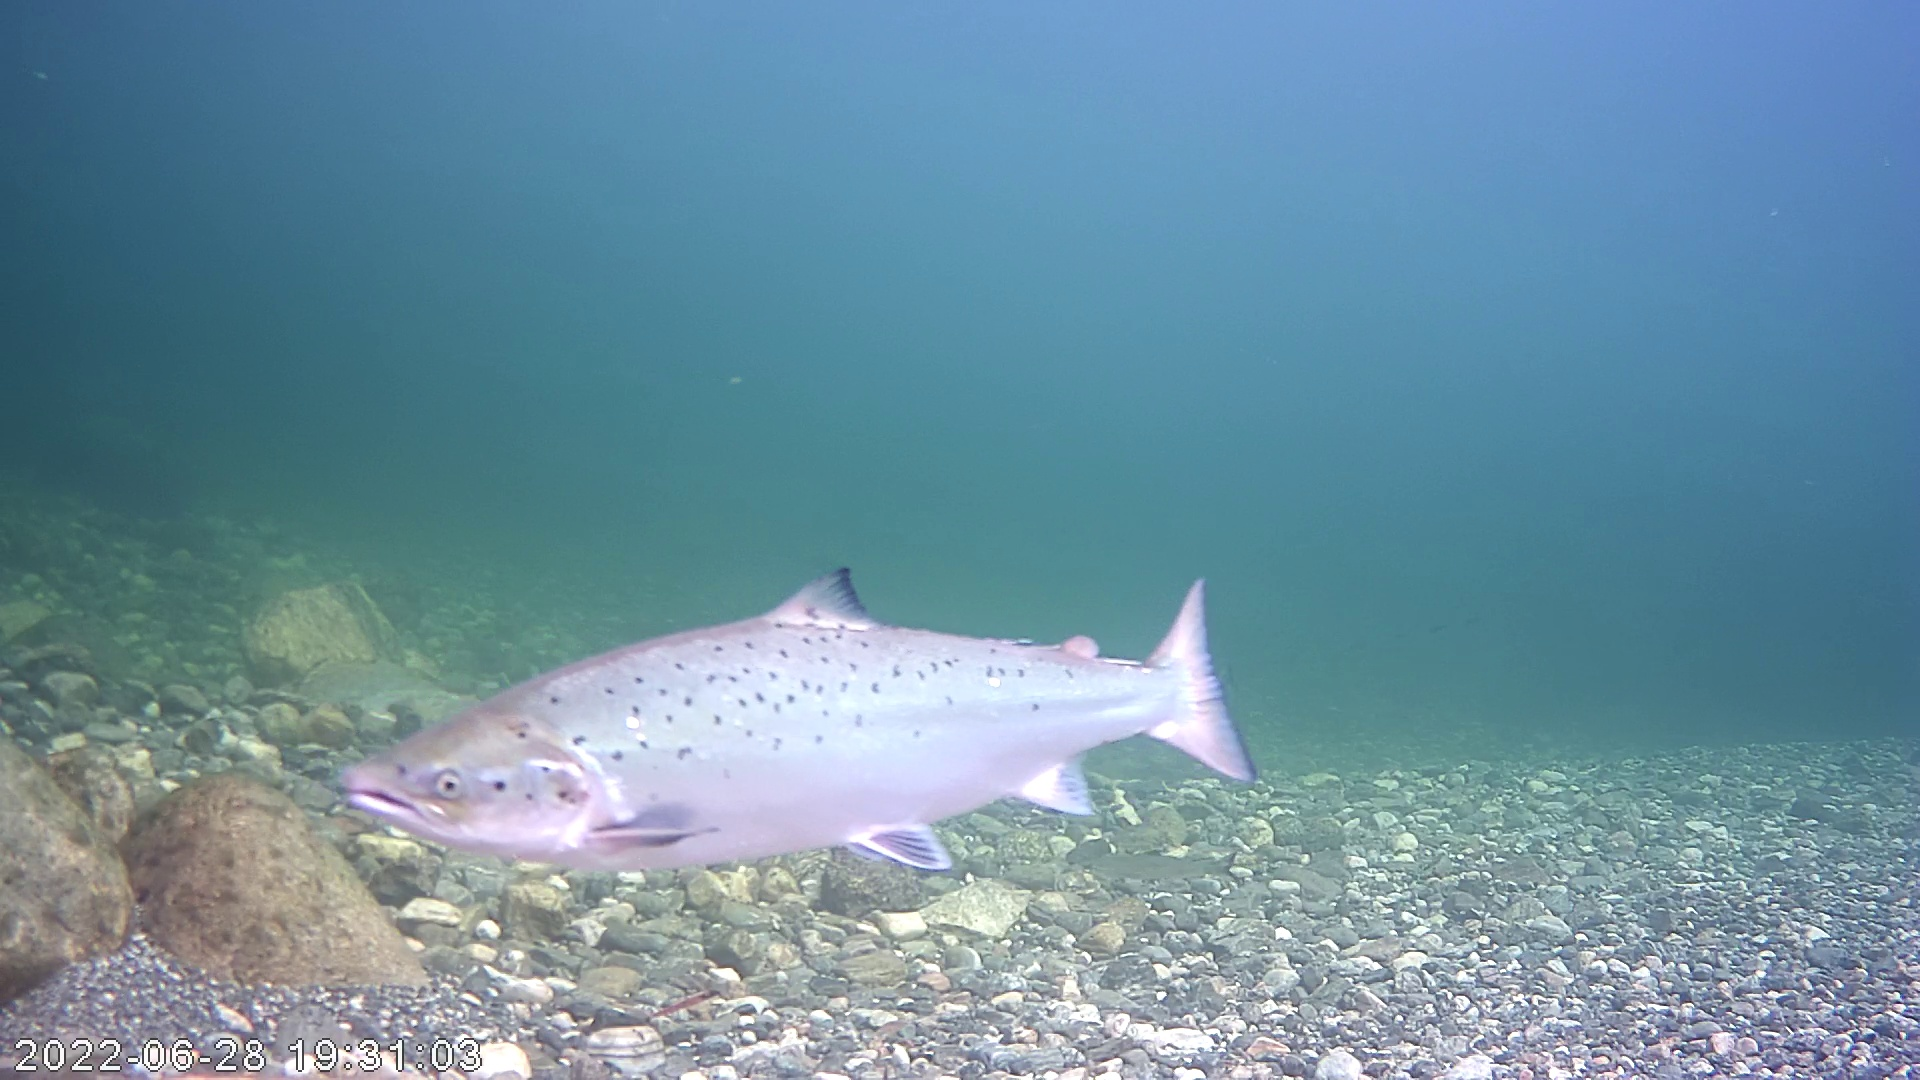salmon: (363, 527, 1273, 909)
